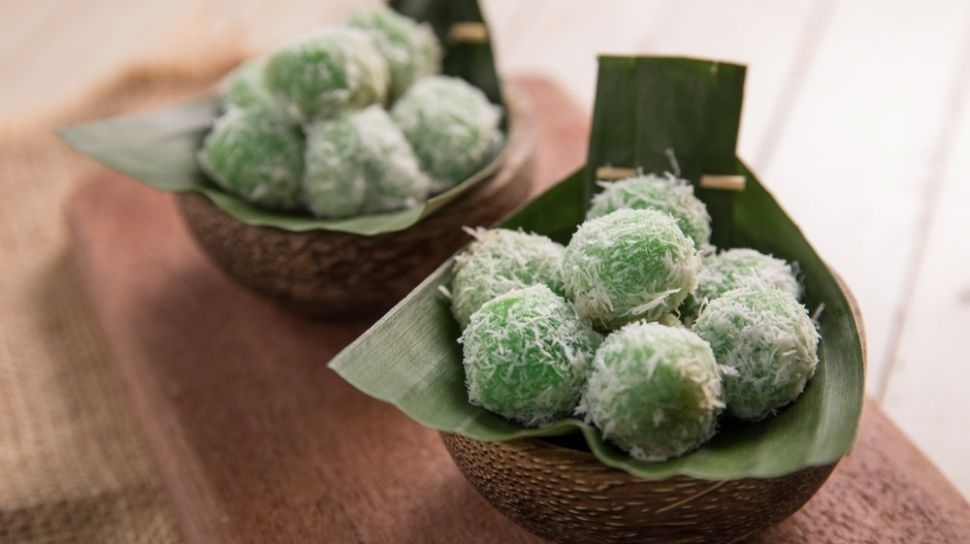klepon: (458, 279, 598, 420), (563, 211, 706, 319)
